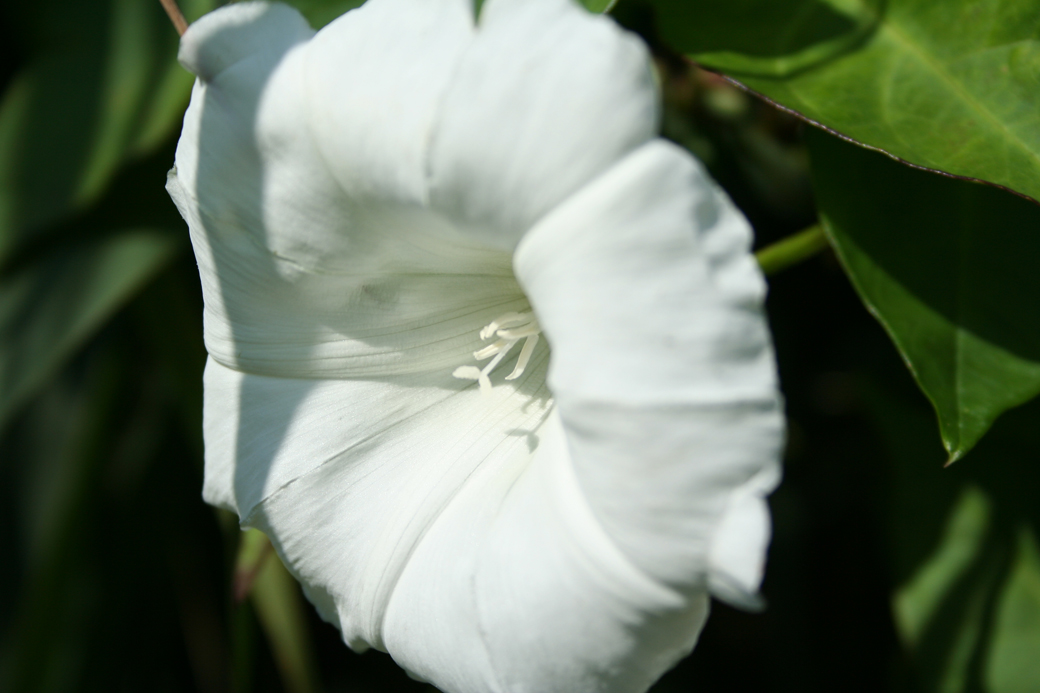haagwinde: (150, 1, 818, 693)
